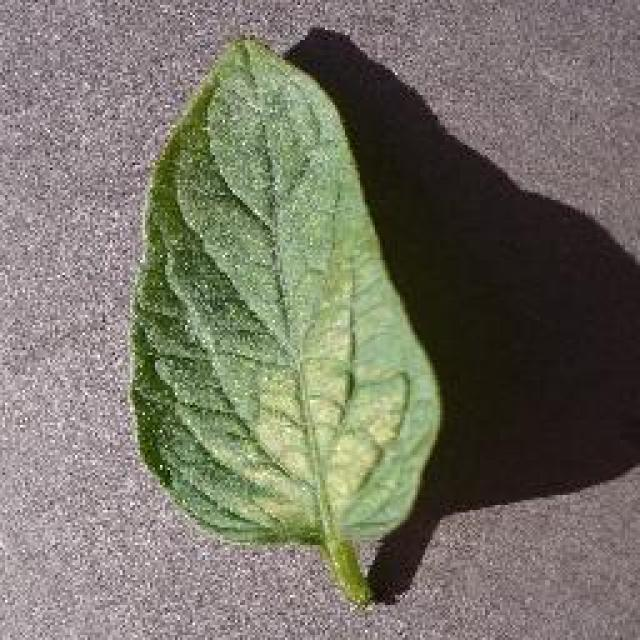Tomato mosaic virus leaf: (130, 31, 440, 544)
